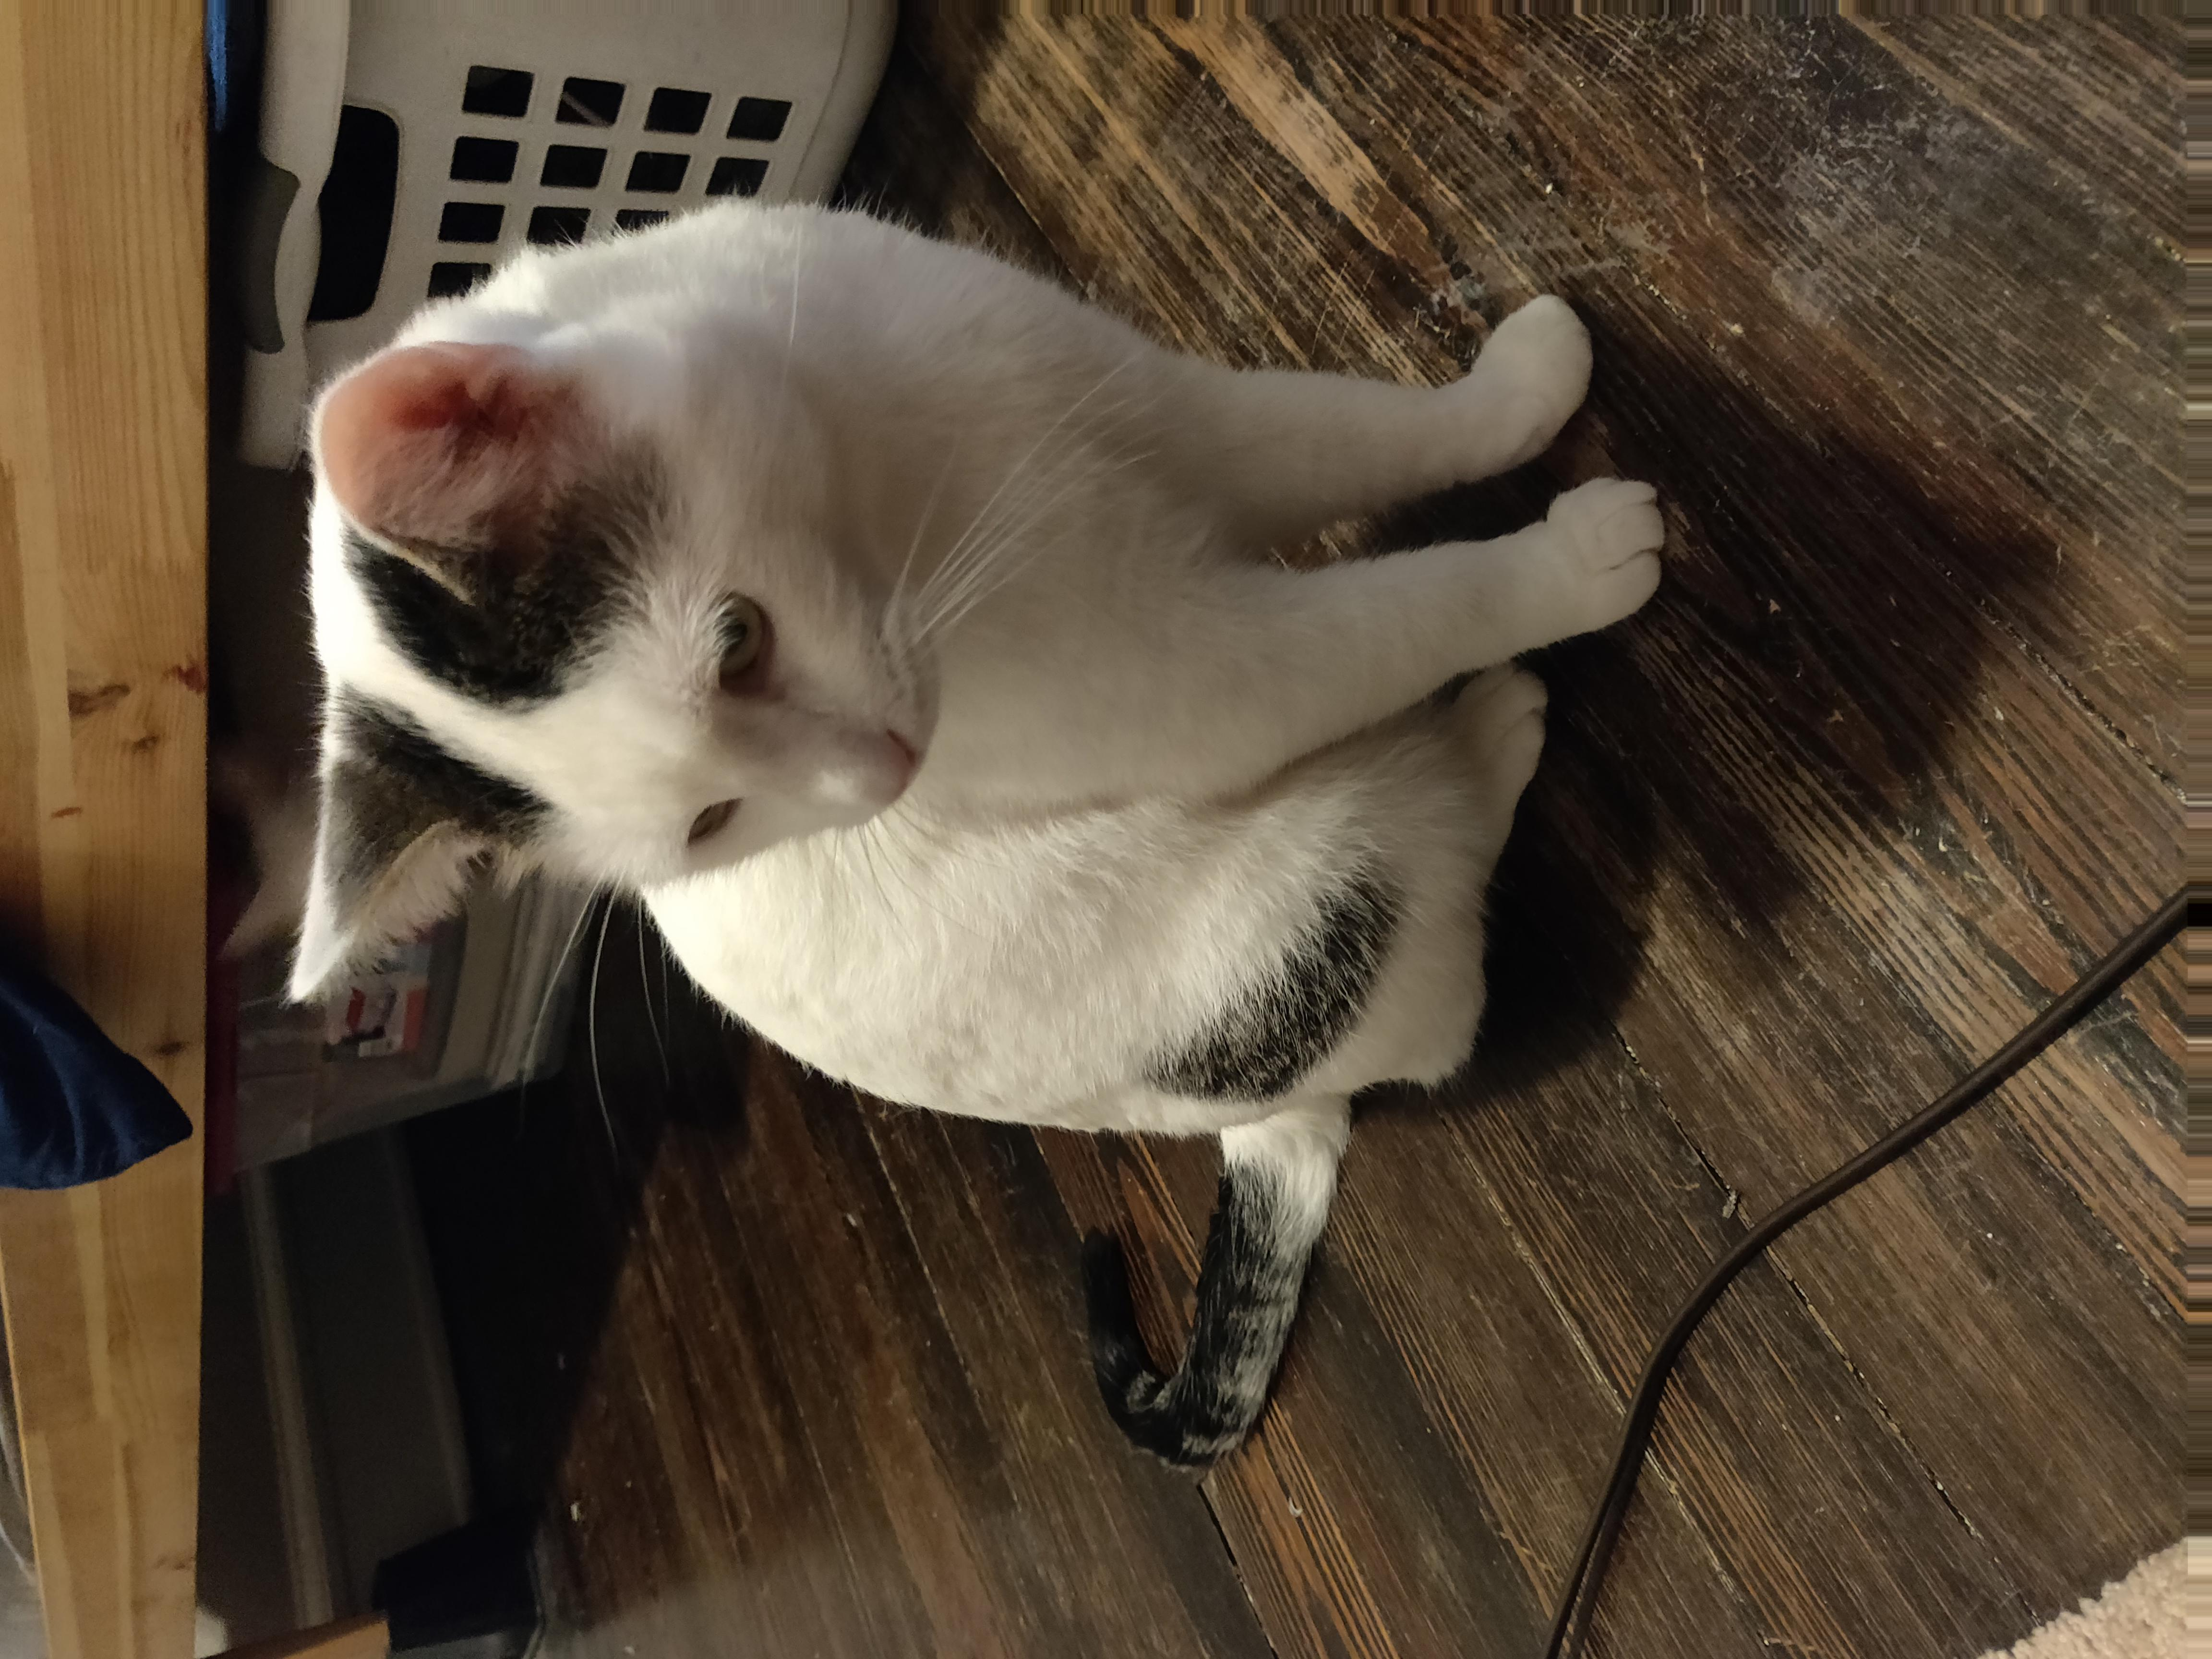cat: (309, 155, 1666, 1443)
